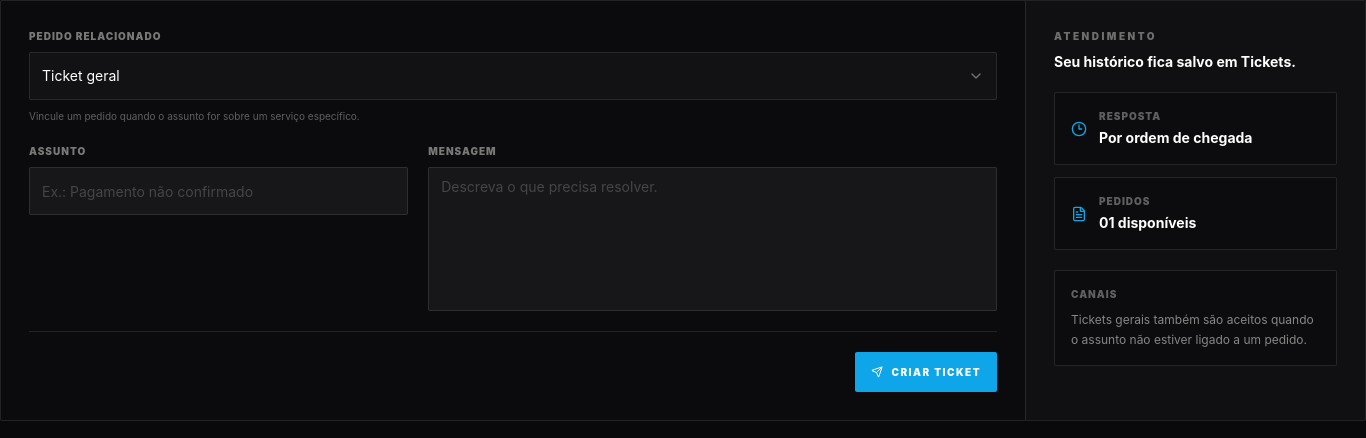
Test: SupportTicketPanel › renders the ticket form fields and an option per order
Expected: the text "Assunto" is shown, [29,145,86,157]
Expected: the text "Mensagem" is shown, [428,145,497,157]
Click the dropdown named "pedido relacionado" at {"x": 81, "y": 76}, box [29,52,997,100]
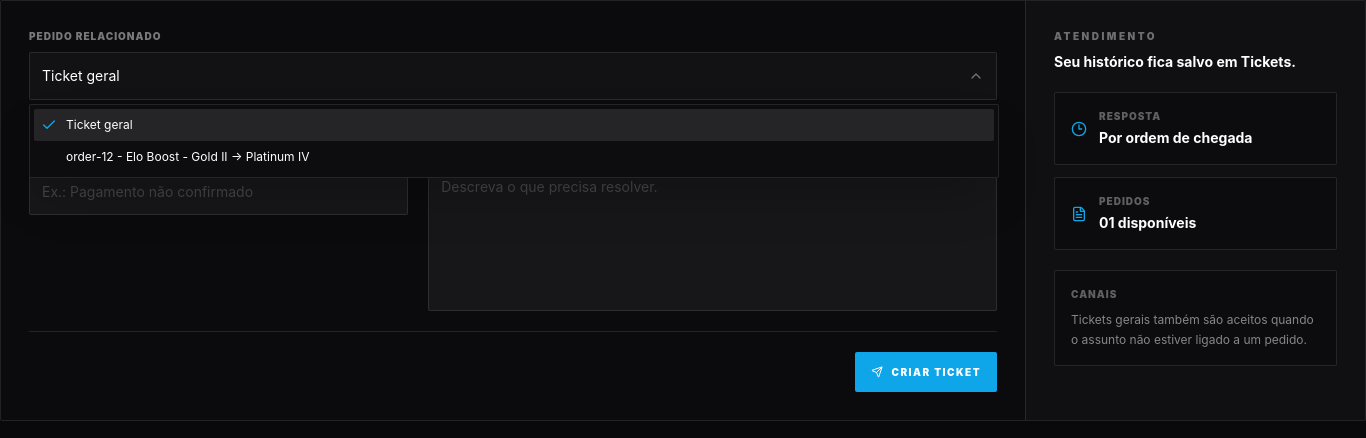
Expected: the text "01 disponíveis" is shown, [1099,213,1196,233]
Result: the number of options is 2 at [34,109,994,141]; [66,149,310,164]
